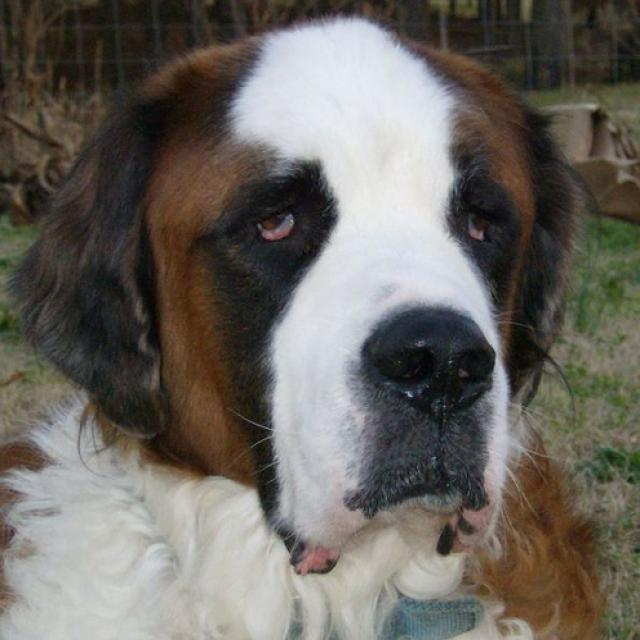dog: (1, 14, 640, 640)
